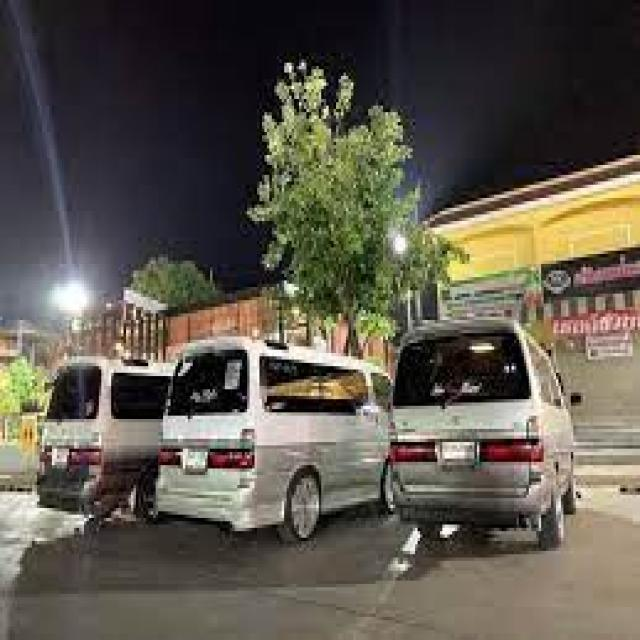van: (158, 336, 390, 538), (390, 320, 573, 548), (40, 356, 171, 518)
